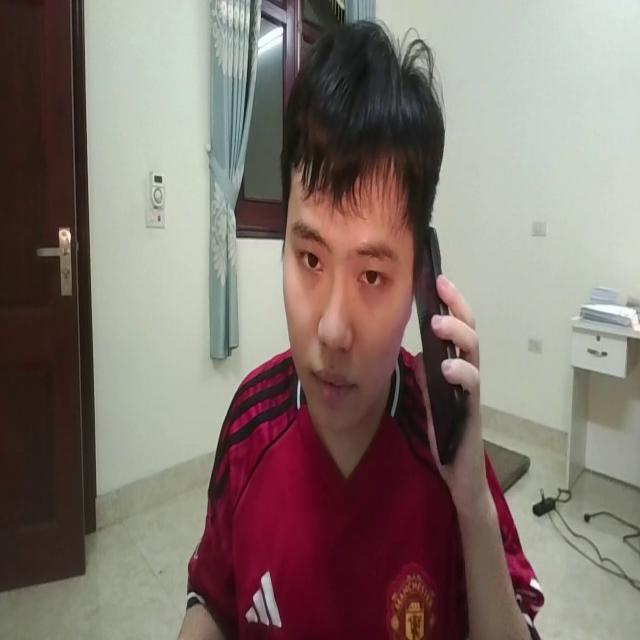phone: (408, 223, 473, 474)
student: (183, 15, 543, 640)
